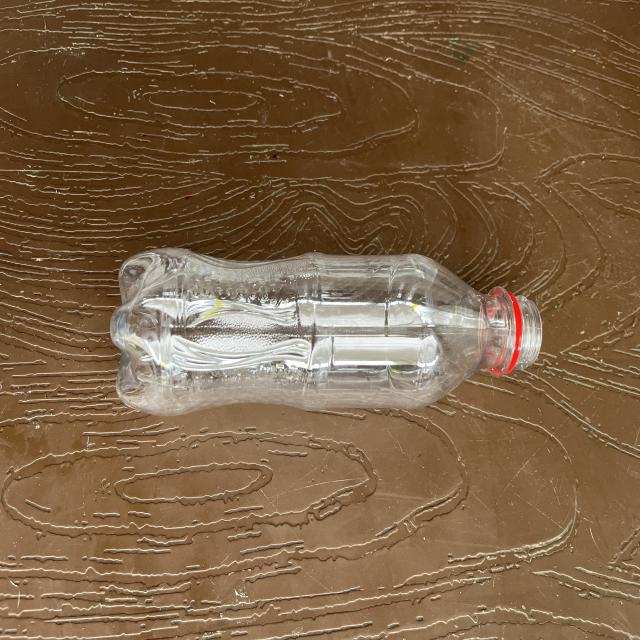PET_With_Cap: (111, 250, 544, 413)
